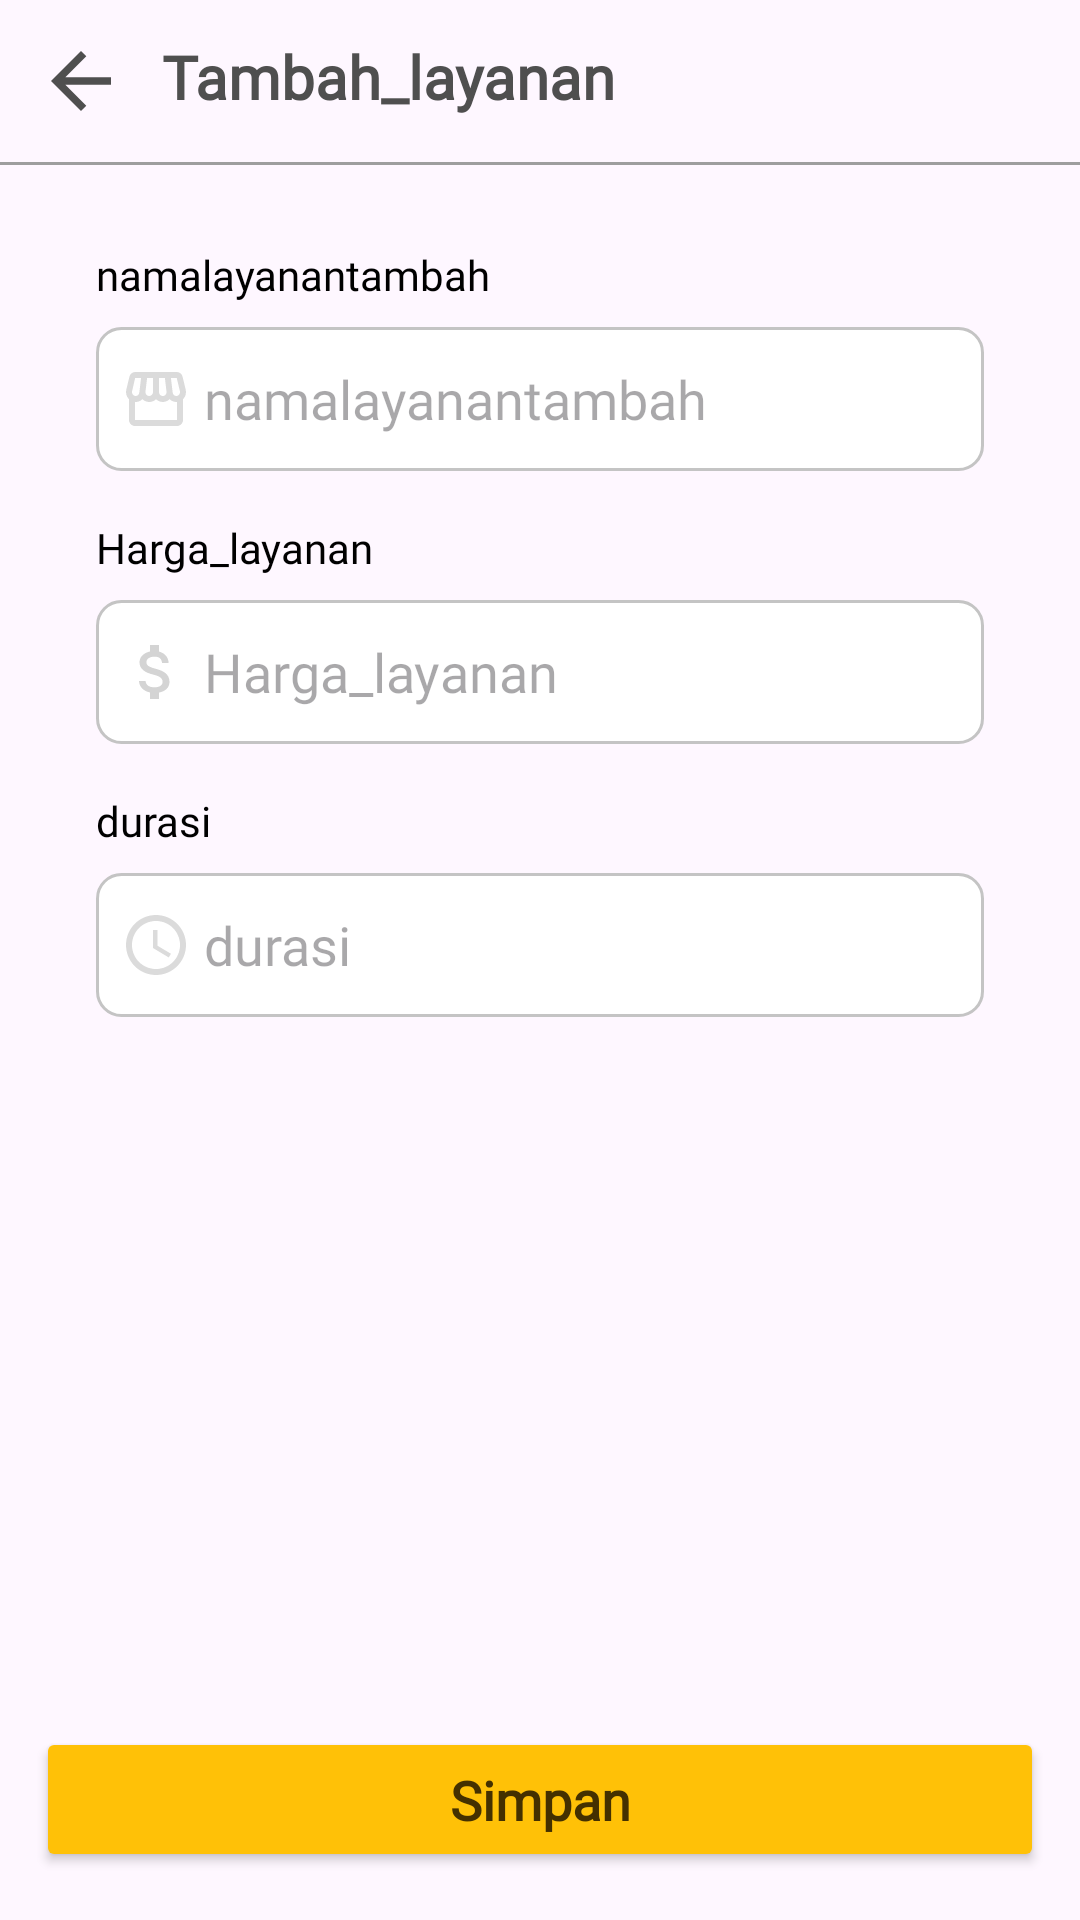

Icon bounding boxes for this 1080px×1920px phone screenshot, format [x1=x1, y1=y1, x2=x2, y2=y2]:
arrow back: [x1=51, y1=51, x2=111, y2=111]
